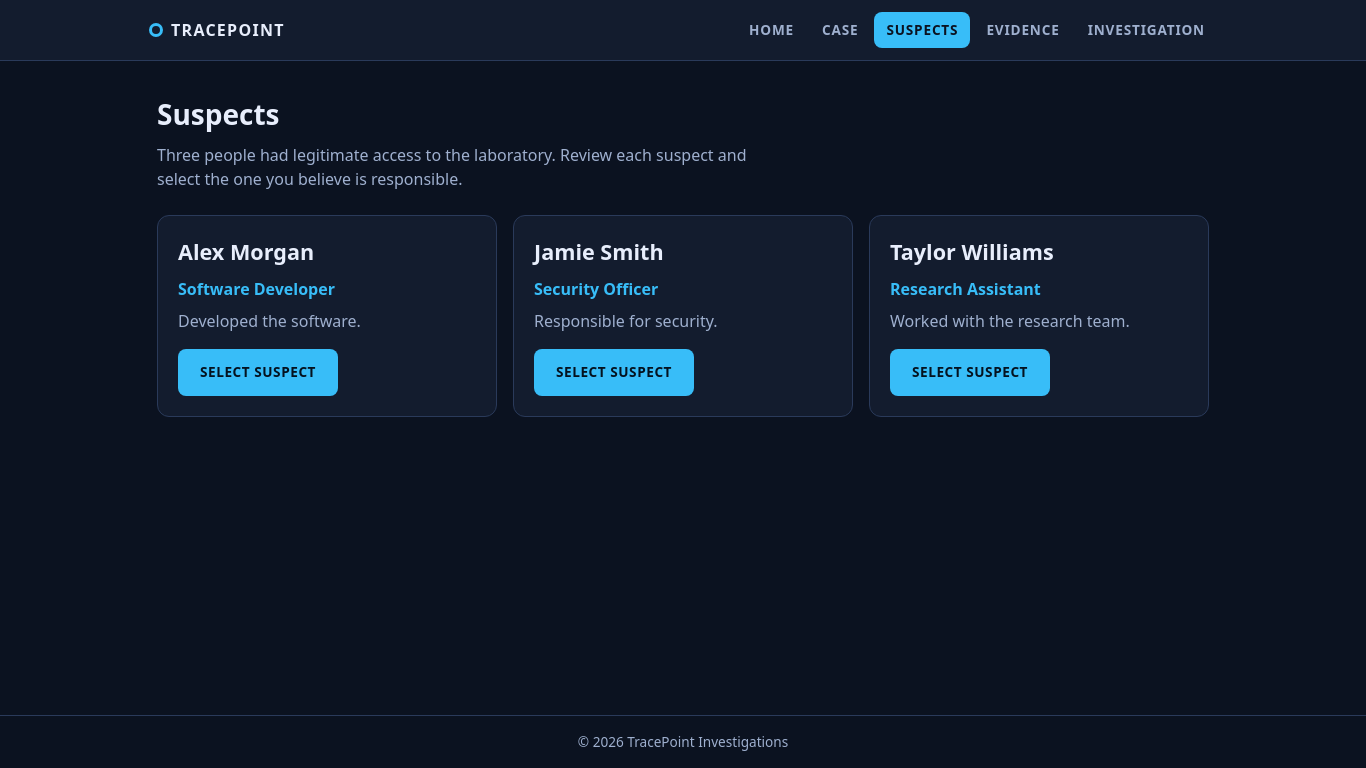
Test case: Suspects page › remembers the selected suspect on the Investigation page
Check: the heading "Taylor Williams" is shown, box x1=890 y1=237 x2=1054 y2=266
Click the button "Select Suspect" below "Worked with the research team." at (970, 372), box x1=890 y1=349 x2=1050 y2=396
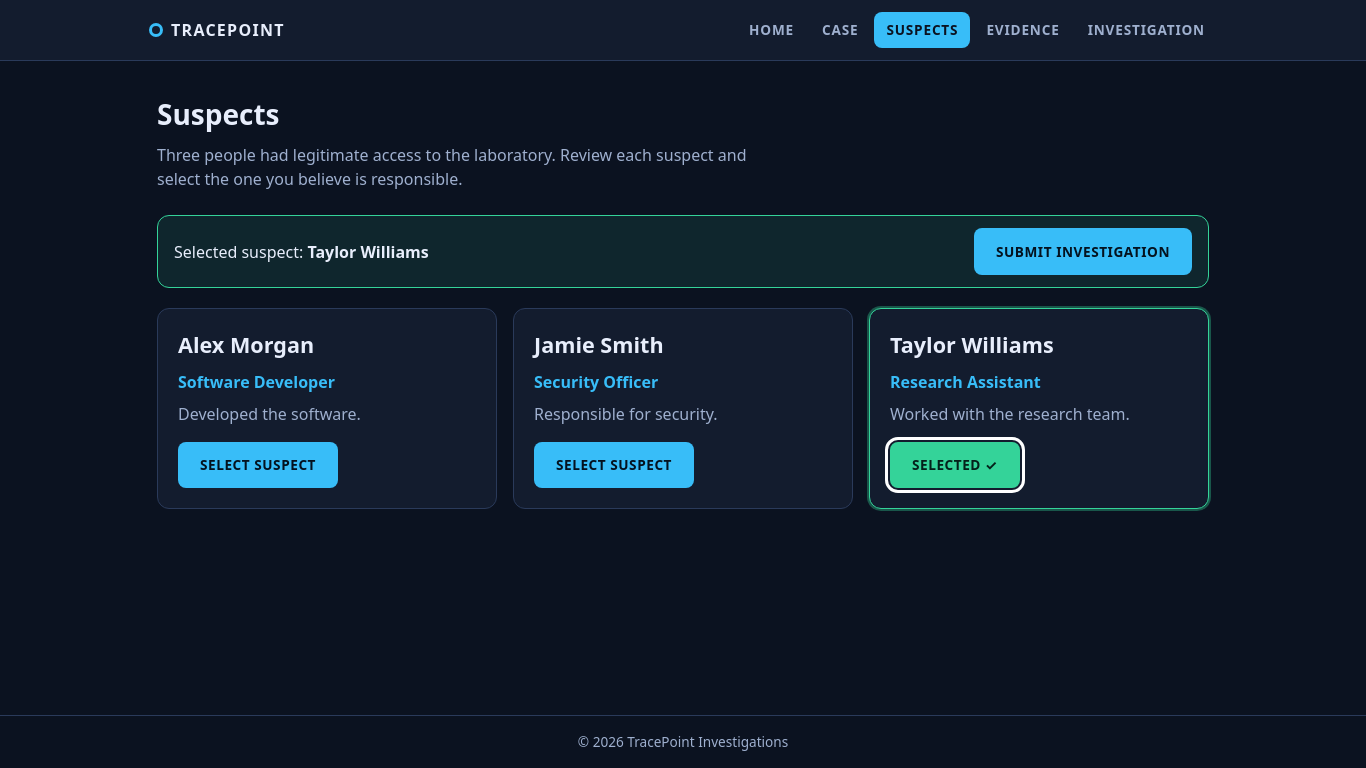
Click the link "Investigation" at (1146, 30), box x1=1088 y1=20 x2=1205 y2=39
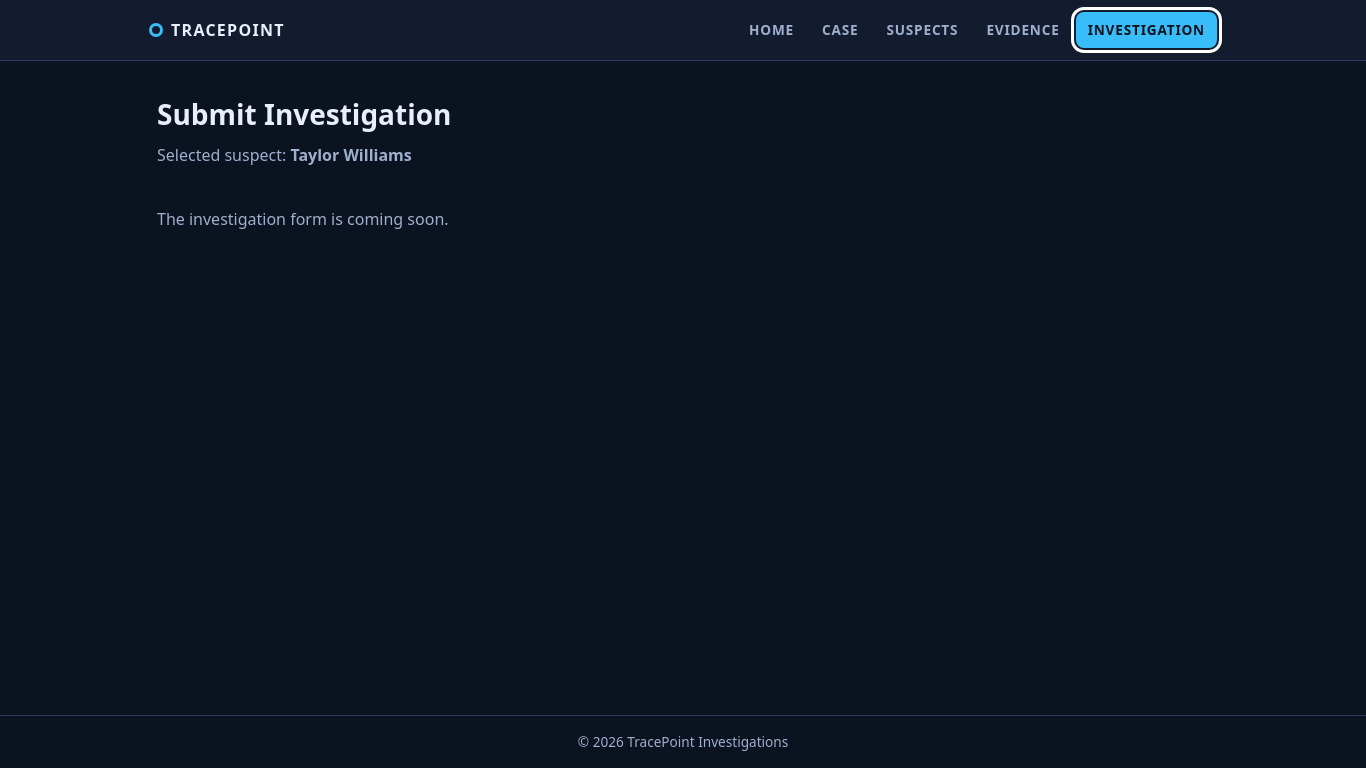
Check: the text "Selected suspect: Taylor Williams" is shown, box x1=157 y1=144 x2=412 y2=166
